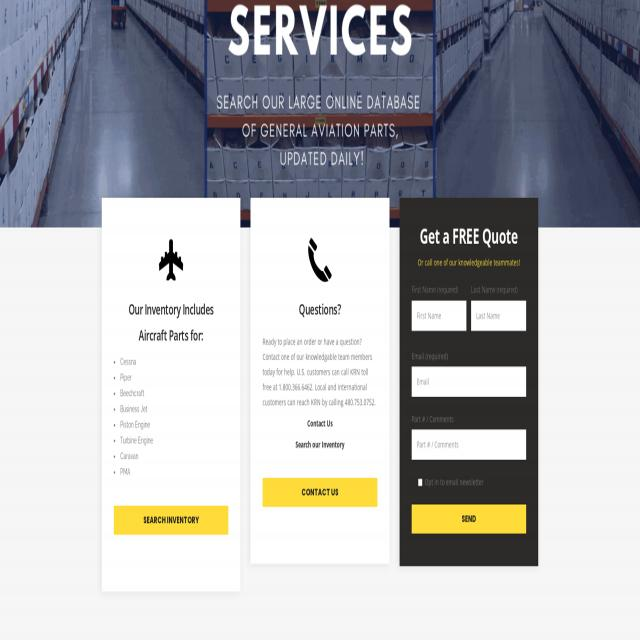button: (412, 504, 526, 534), (263, 478, 377, 507), (114, 506, 228, 535), (306, 236, 334, 284), (158, 236, 185, 284)
field: (412, 366, 526, 397), (412, 429, 526, 460), (412, 301, 466, 331), (472, 301, 526, 331), (418, 478, 422, 486)
